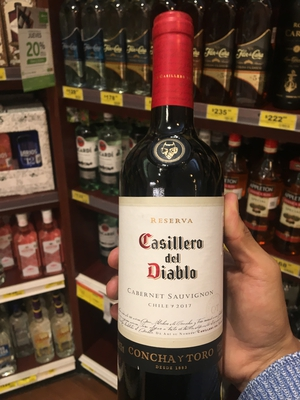casillero del diablo cabernet sauvignon: (96, 24, 236, 400)
